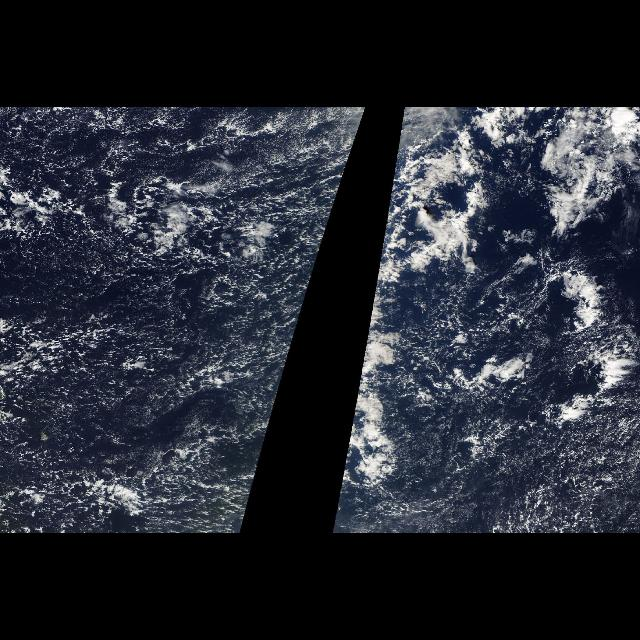Gravel: (9, 112, 288, 534), (401, 146, 639, 454)
Sugar: (390, 398, 552, 532), (582, 398, 640, 534)
